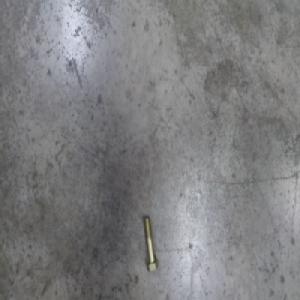Bolt: (142, 215, 160, 273)
